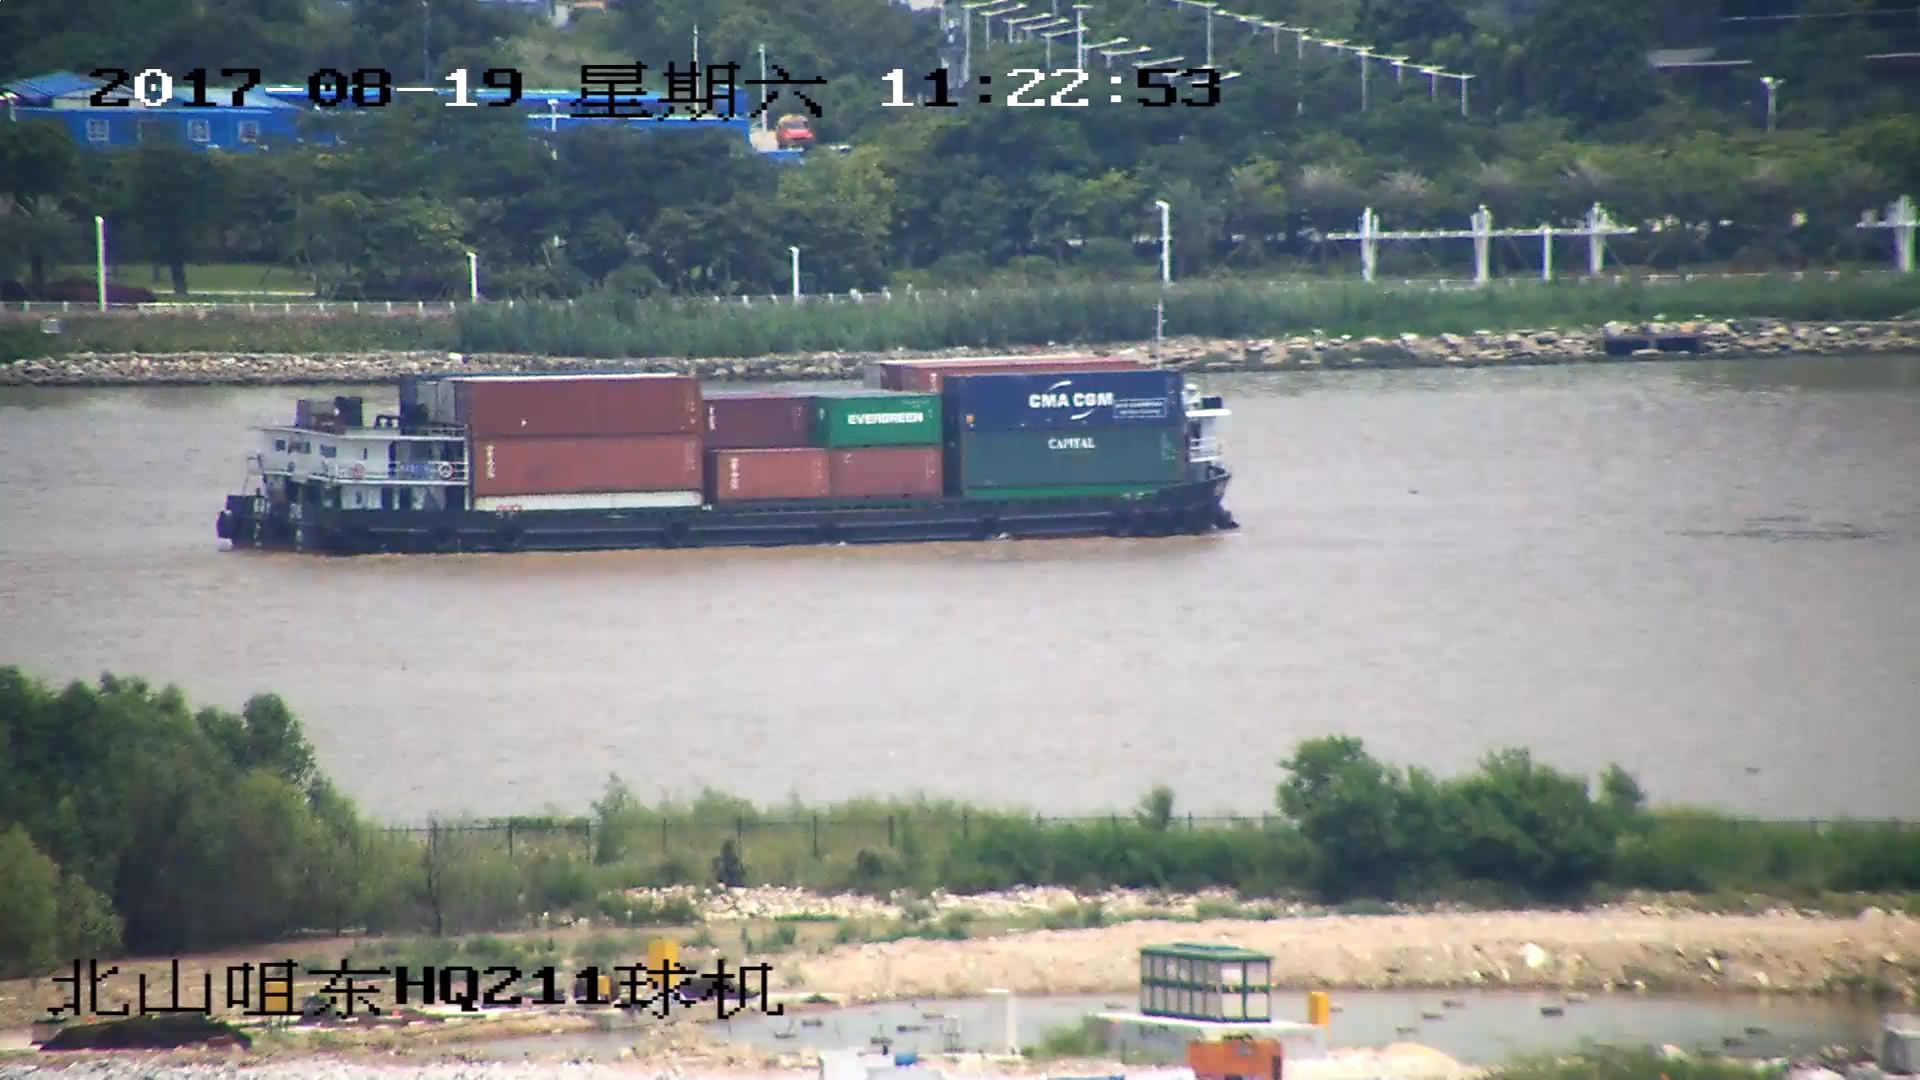container ship: (218, 318, 1240, 554)
